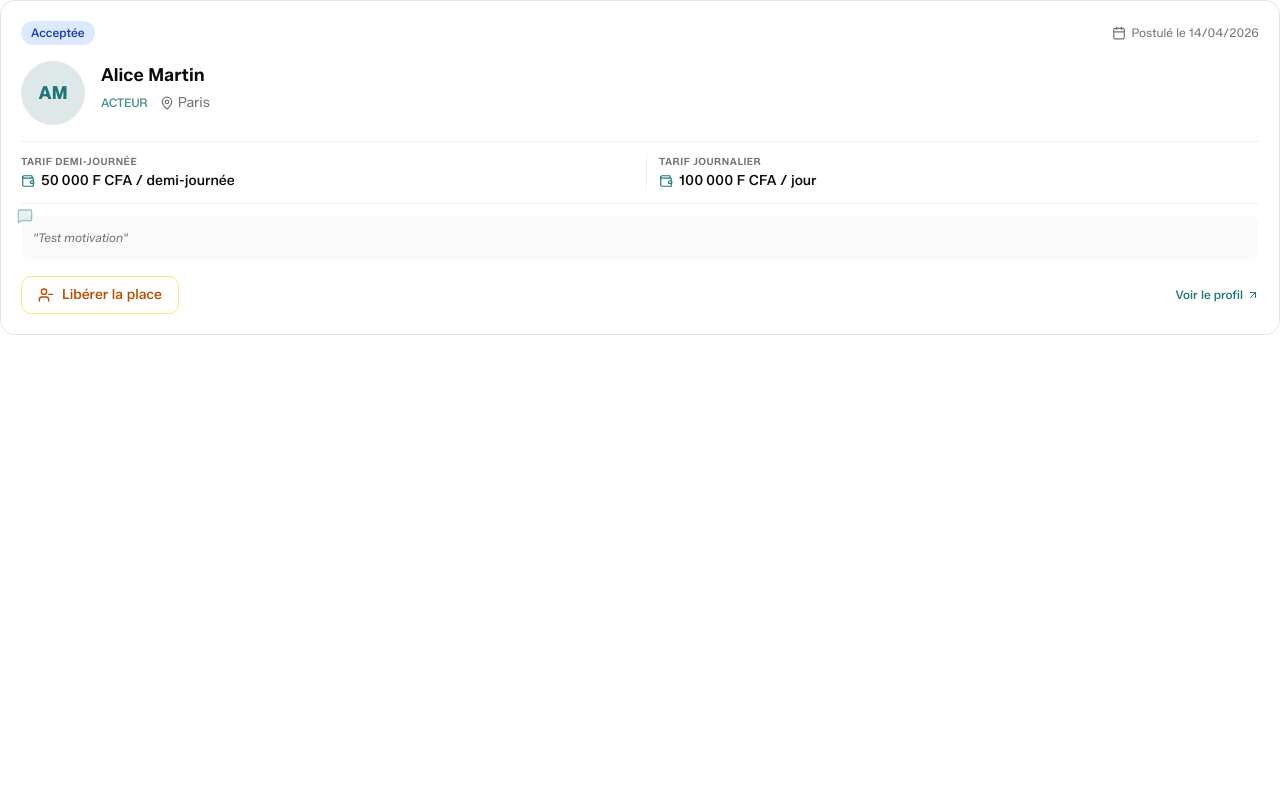
ProducerCandidatureCard › UGC release (9-2) › promises the escrow refund only for a hybrid mission (honest copy, D-9.2.c)
Click the button with test id "release-candidature-btn" at (100, 294), box [21, 276, 179, 314]
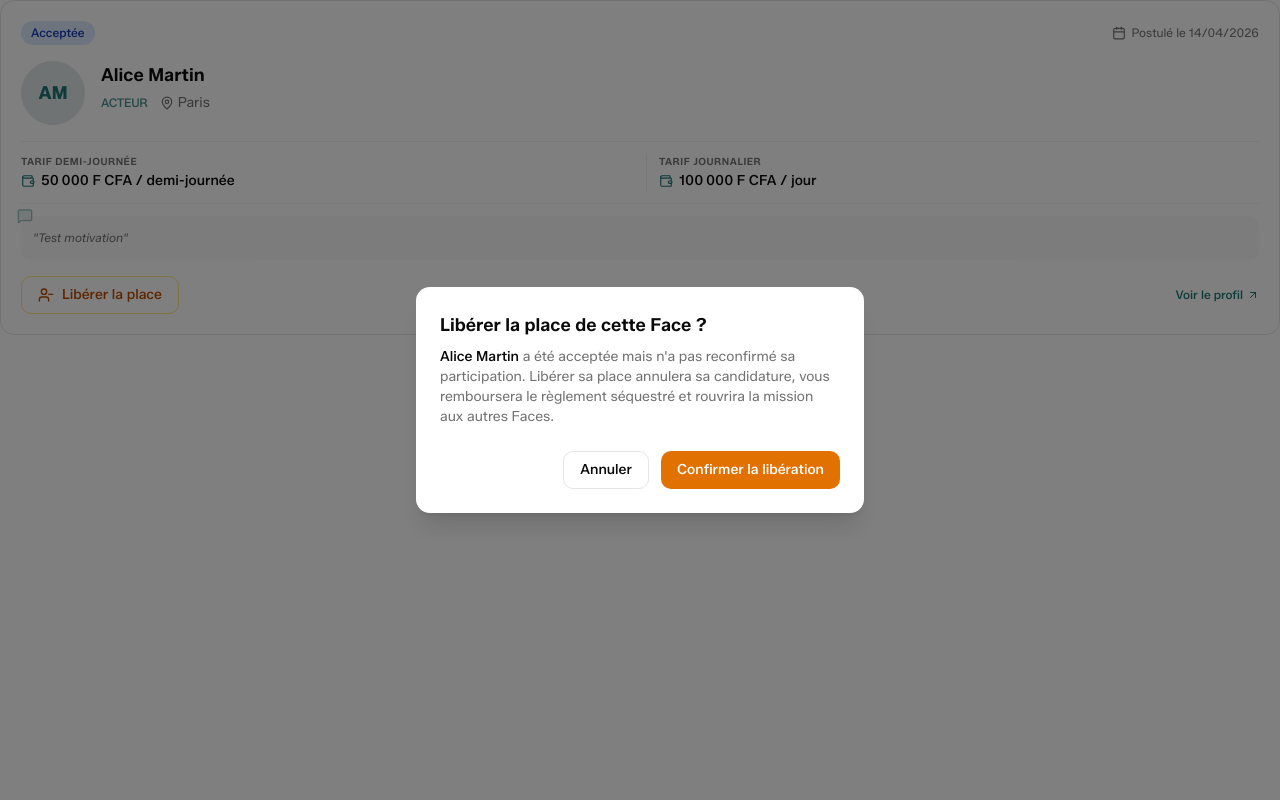
Expected: the text "vous remboursera le règlement séquestré" is shown, [440, 348, 830, 425]
